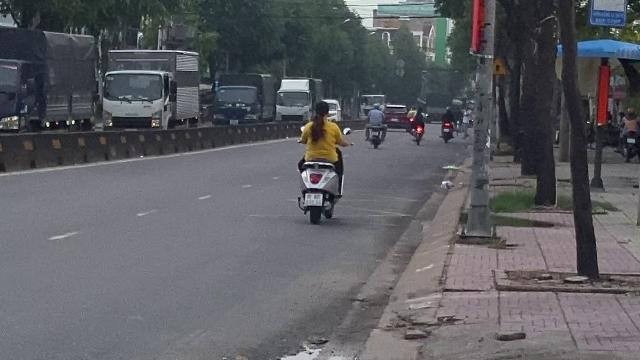licenseplate: (304, 192, 322, 206)
motorcyclist: (294, 99, 348, 223)
nohelmet: (312, 102, 330, 121)
